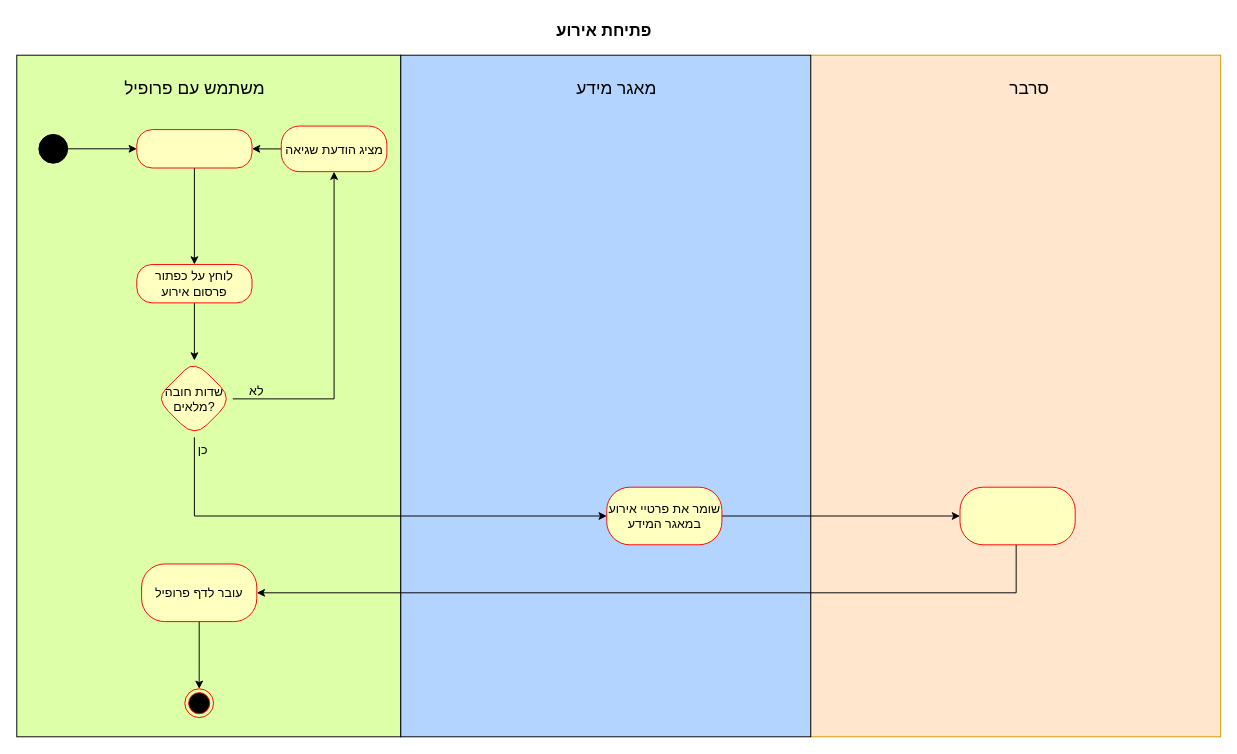
The diagram is 1237 pixels wide and 754 high, and some of its shapes have lost their labels. The shapes that lost their labels are listed below. From the top down, each one's centre as x and y in pixels, then its label:
the point at 194,148: ממלא שדות חובה
the point at 1017,515: יוצר תיקיית פרויקט עם מידע לגבי האירוע
